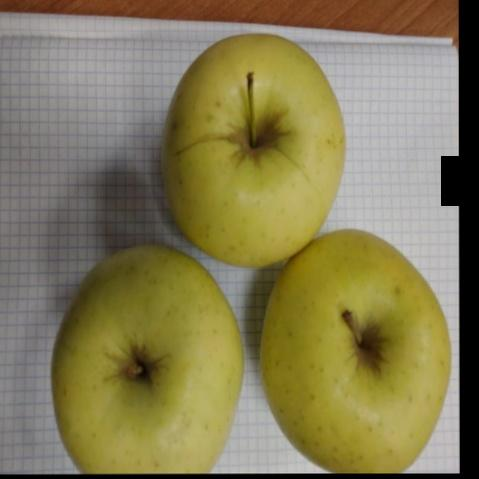green apple: (259, 227, 452, 473), (47, 244, 244, 474), (160, 32, 347, 272)
